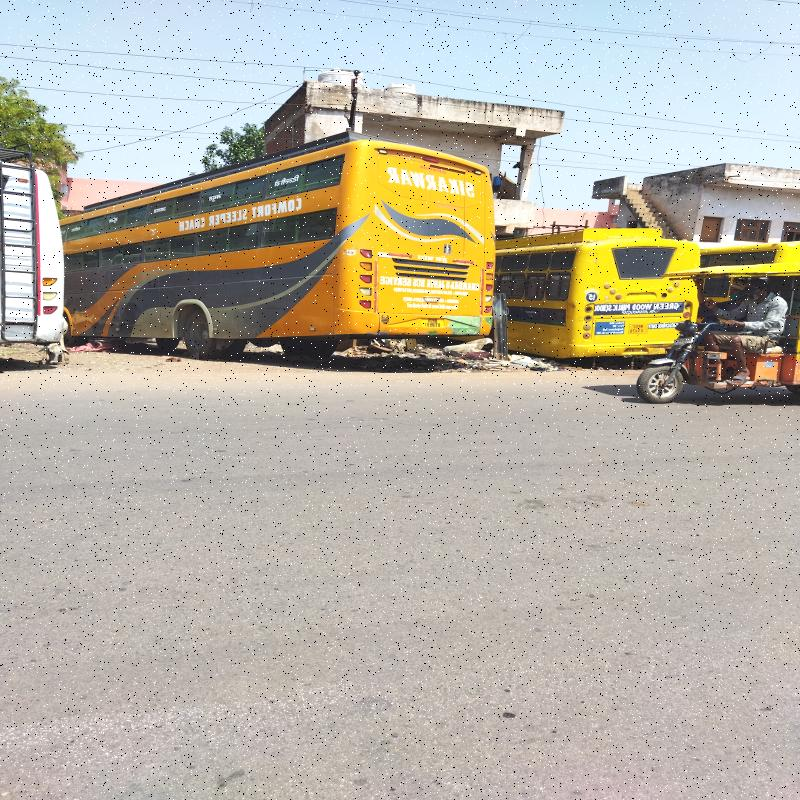bus: (64, 147, 502, 363)
